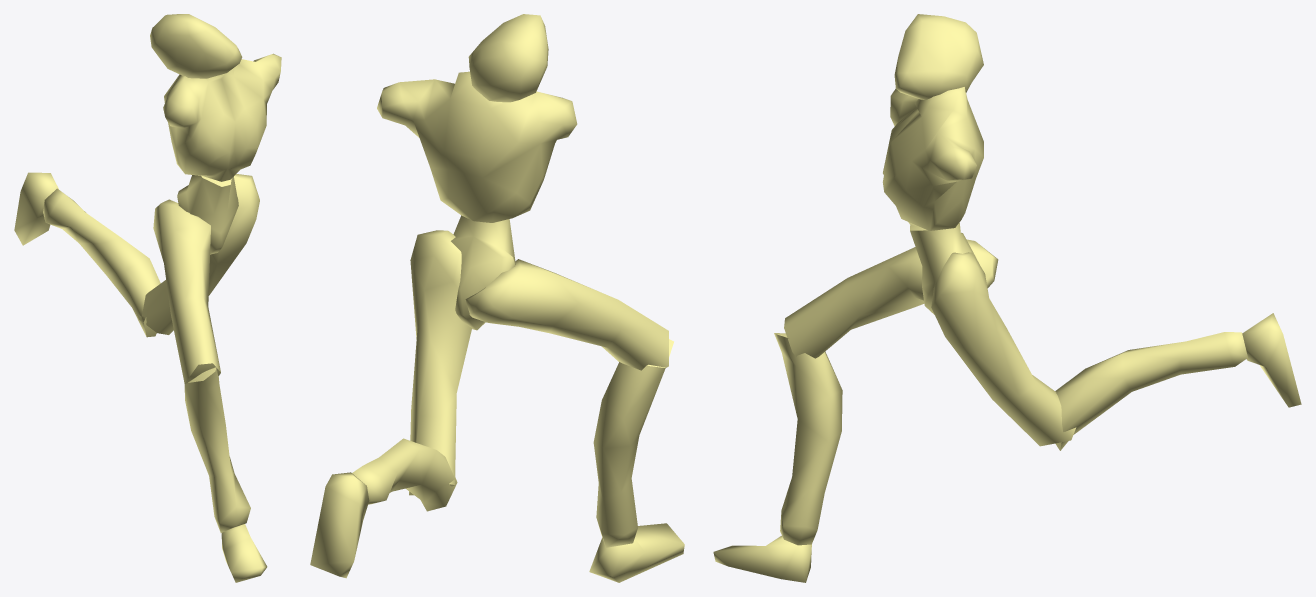
File: filth20.obj
3 renders of one model, left to right at view 1: azimuth 30°, elevation 25°; view 2: azimuth 150°, elevation 25°; view 3: azimuth 270°, elevation 25°, orthographic. The views are drawn at different scales.
Visible parts, largest first — view 1: Melee_Husk; view 2: Melee_Husk; view 3: Melee_Husk.
Boxes of the visible parts, <box> form: Melee_Husk: <box>14,14,281,582</box>; Melee_Husk: <box>310,14,684,582</box>; Melee_Husk: <box>713,14,1301,582</box>.
Size of the model in its own units: 24.69 by 70.31 by 65.74.
